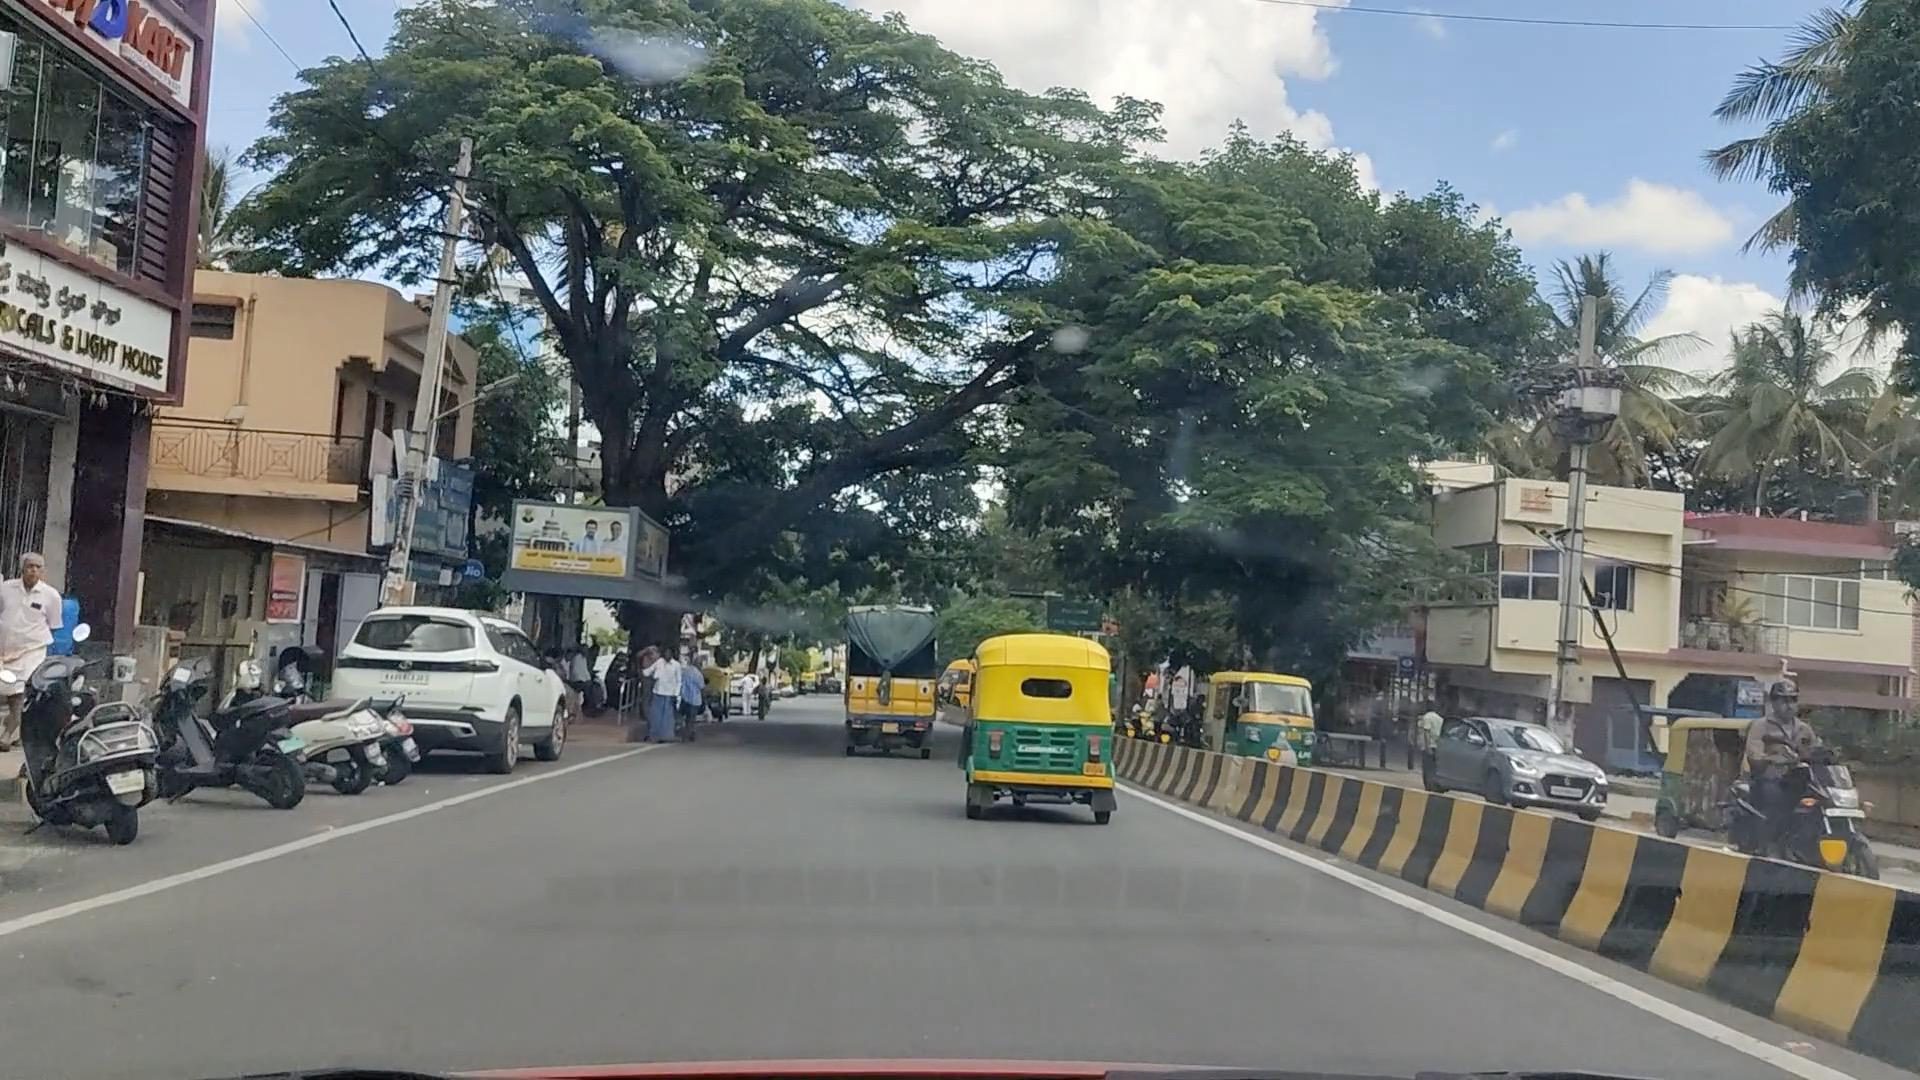HMV: (845, 605, 938, 758)
LMV: (980, 642, 1115, 795)
